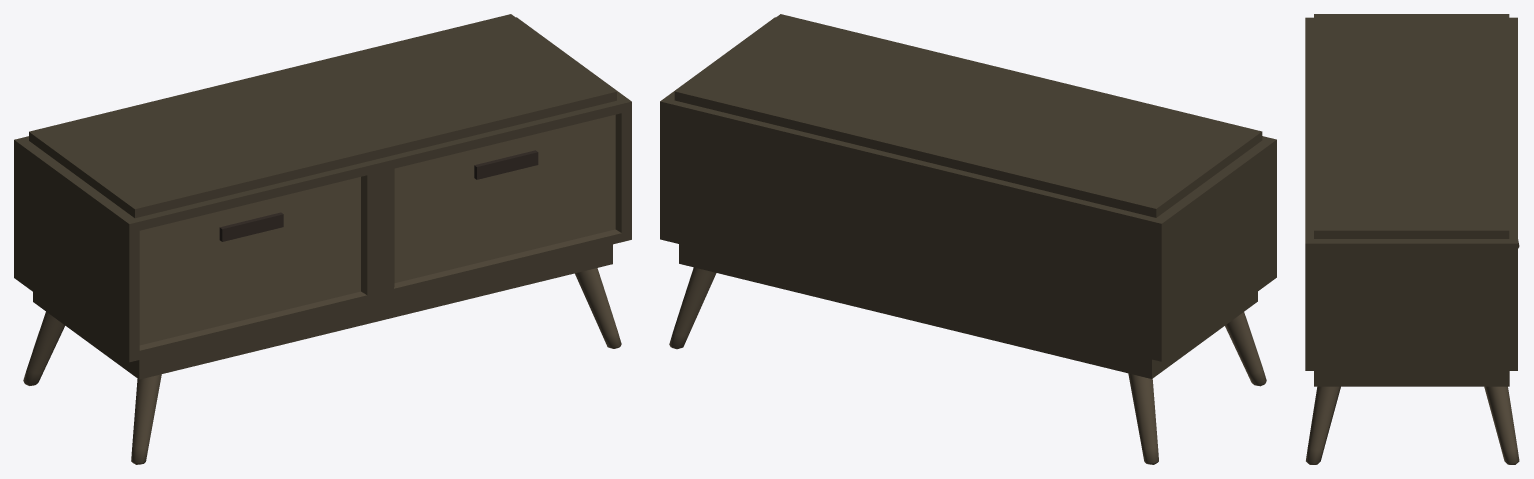
File: drawer.glb
3 views of the same model, side by side, from view 1: azimuth 30°, elevation 25°; view 2: azimuth 150°, elevation 25°; view 3: azimuth 270°, elevation 25° (orthographic). The views are drawn at different scales.
Visible parts, largest first — view 1: drawer; view 2: drawer; view 3: drawer.
Boxes of the visible parts, box(x1,y1,x2,y2) form: drawer: box(14, 14, 631, 464); drawer: box(660, 14, 1276, 464); drawer: box(1305, 14, 1519, 464).
Bounding box in the file's own units: 1.76 × 0.85 × 0.7028.
